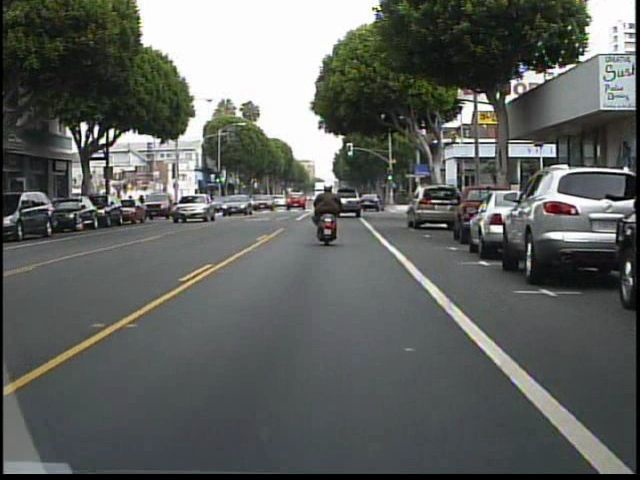person: (310, 178, 348, 247)
